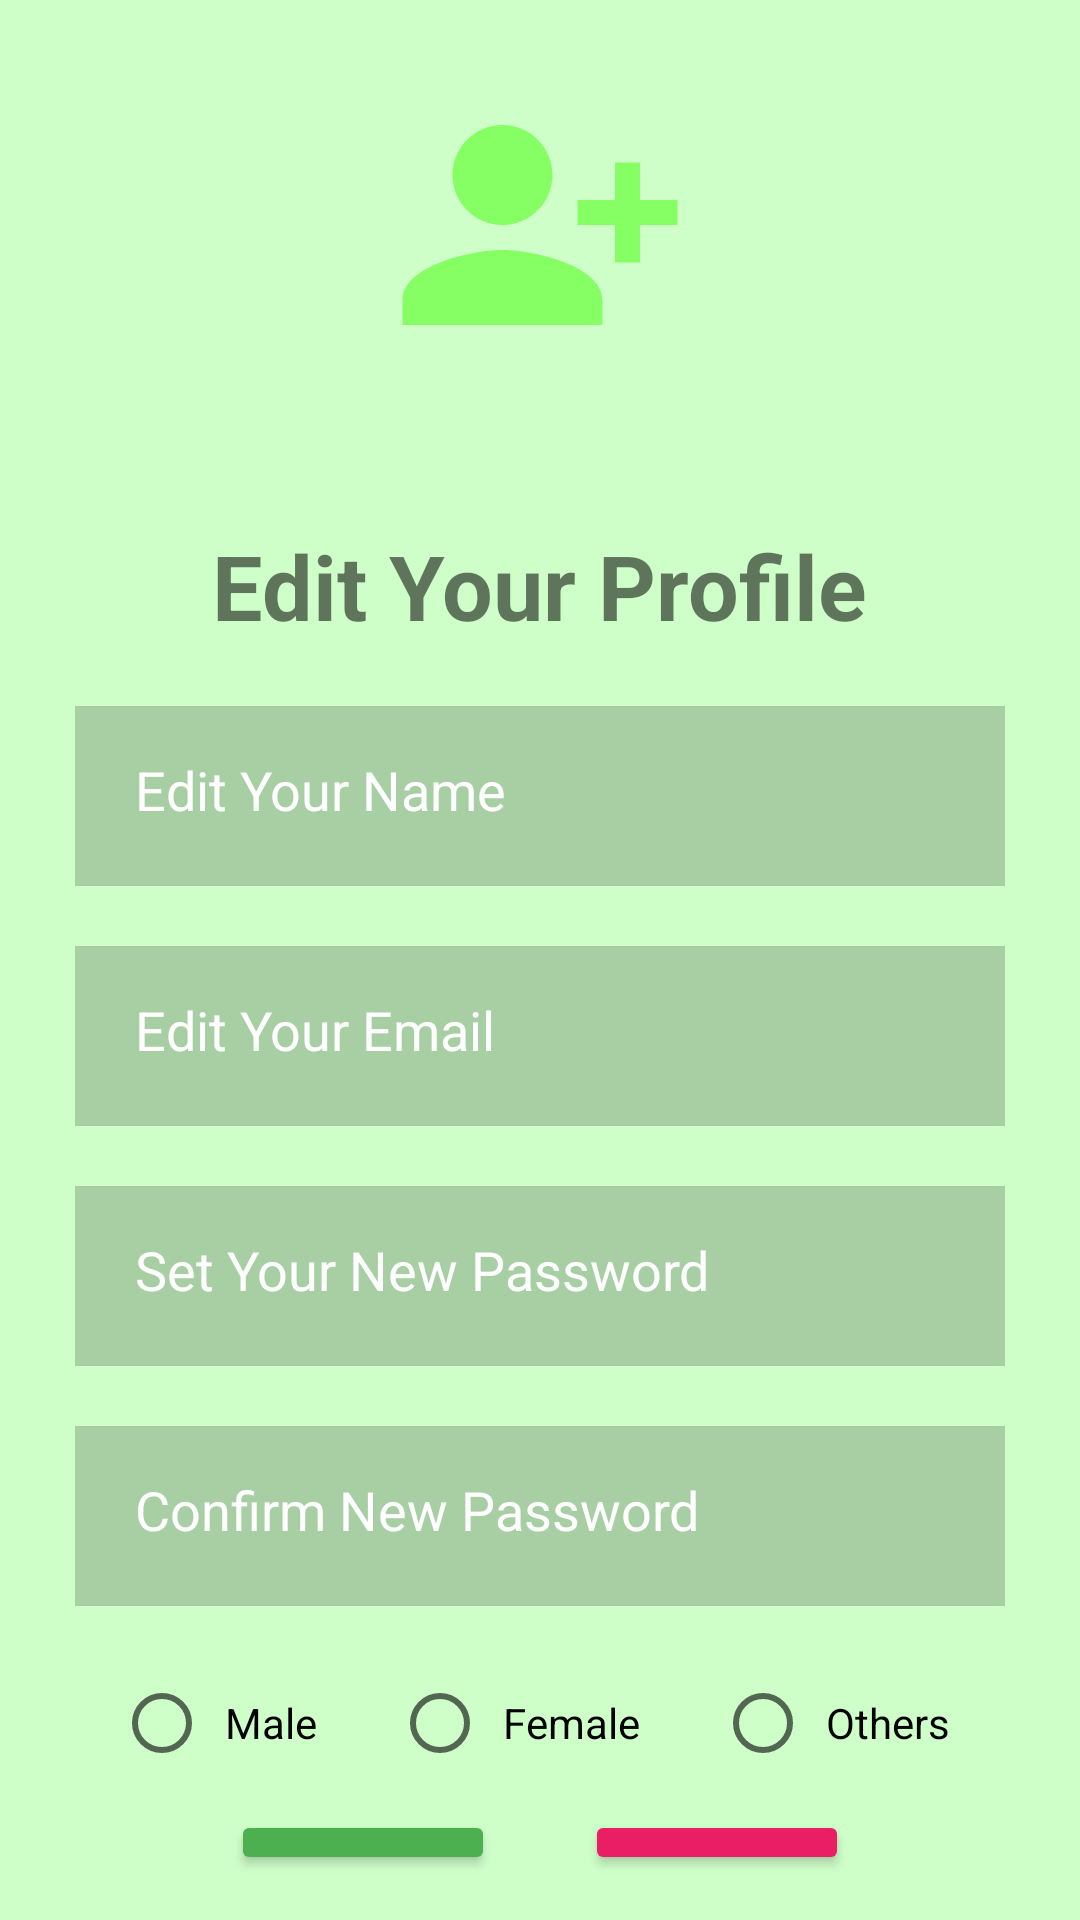

Named icons in this screenshot (1080w x 1920h) and their centers, (x=x, y=y):
person add: (x=540, y=225)
